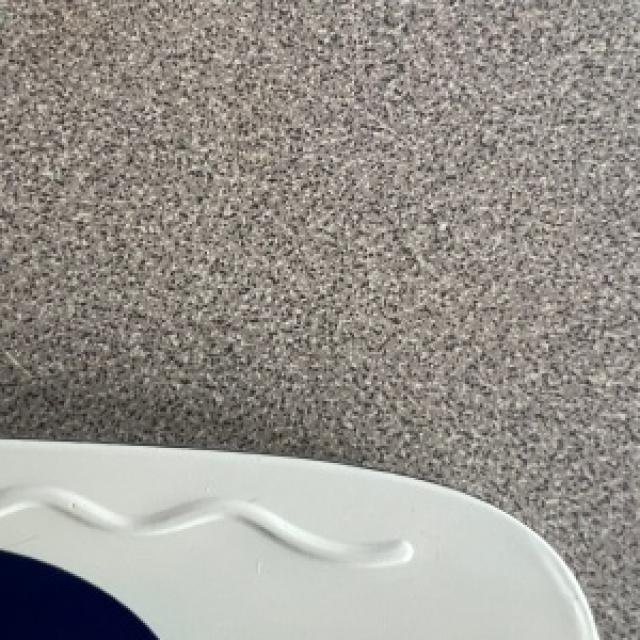healthy: (0, 439, 595, 638)
